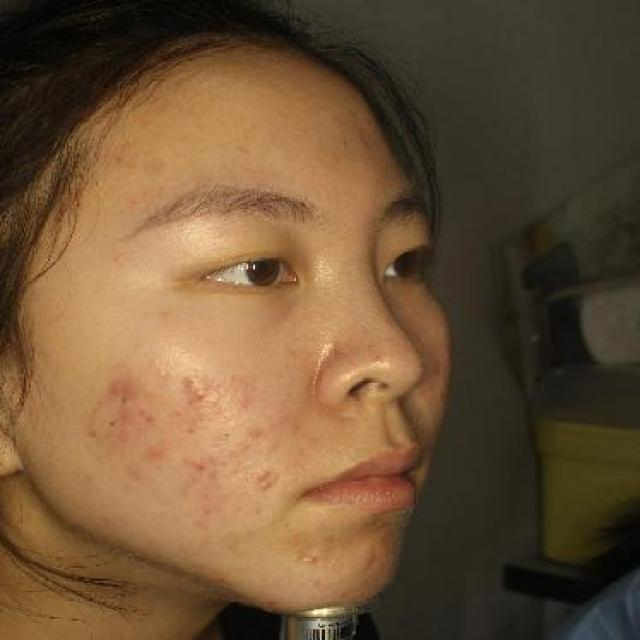Acne: (91, 400, 157, 455), (99, 368, 159, 404), (187, 451, 230, 480), (246, 466, 279, 496), (240, 422, 264, 448), (180, 371, 205, 395)
